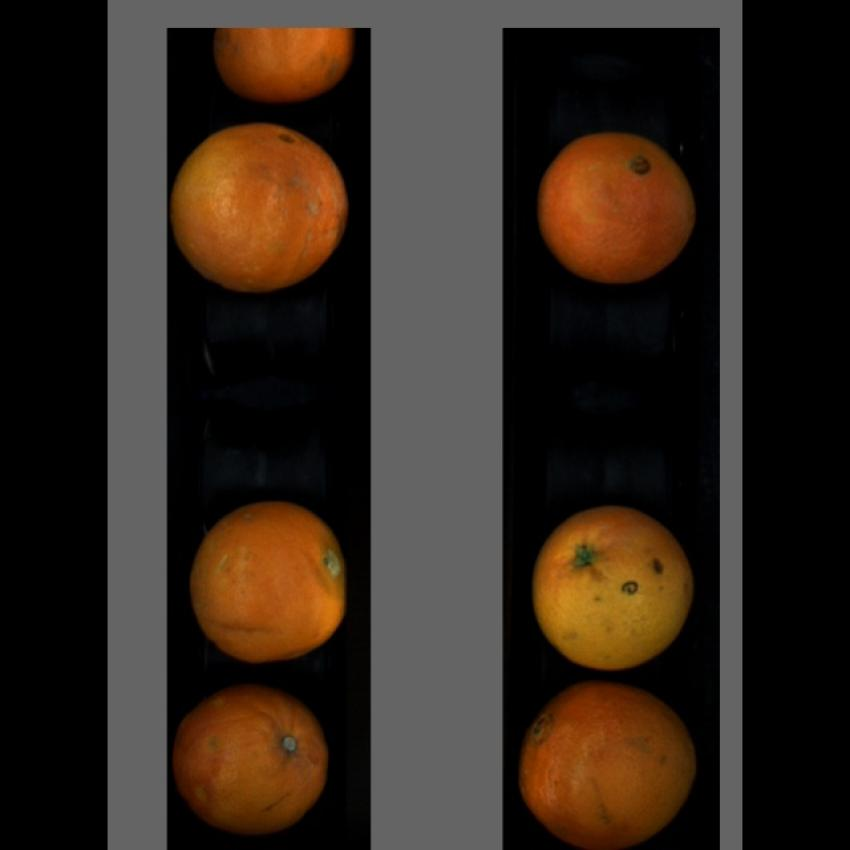Mal estado: (170, 116, 353, 291), (521, 684, 700, 842), (534, 123, 698, 286), (531, 511, 697, 671), (182, 505, 346, 664), (170, 684, 334, 836), (202, 22, 360, 99)
